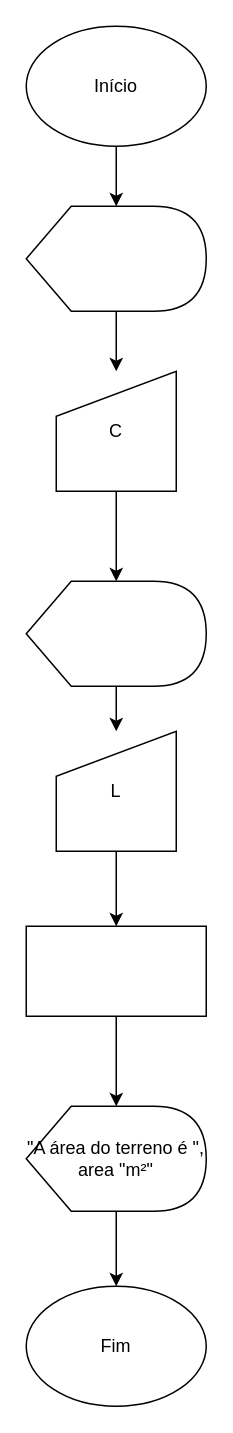
This 233x1433 diagram has some shape labels left out. The centre of each missing label's shape, as x and y in pixels:
"Qual a largura do terreno?": (115,633)
"Qual o comprimento do terrenno?": (115,258)
area <- L * C: (115,970)
